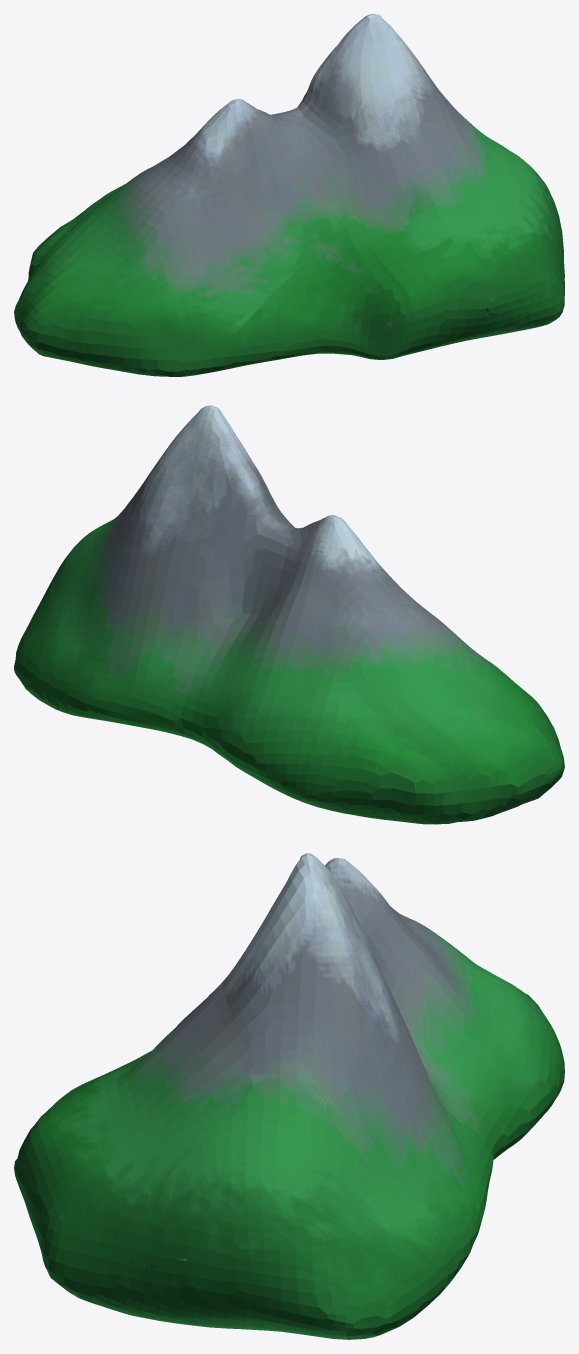
File: Moutain.fbx
3 renders of one model, top to bottom at view 1: azimuth 30°, elevation 25°; view 2: azimuth 150°, elevation 25°; view 3: azimuth 270°, elevation 25°, orthographic. The views are drawn at different scales.
Visible parts, largest first — view 1: Cube; view 2: Cube; view 3: Cube.
Part boxes in pixels (x1=…): Cube: x1=14, y1=14, x2=564, y2=376; Cube: x1=14, y1=405, x2=564, y2=824; Cube: x1=14, y1=853, x2=564, y2=1339.
Bounding box in the file's own units: 13802 × 7577 × 9452.
Materials: 1 (1 with a texture image).
